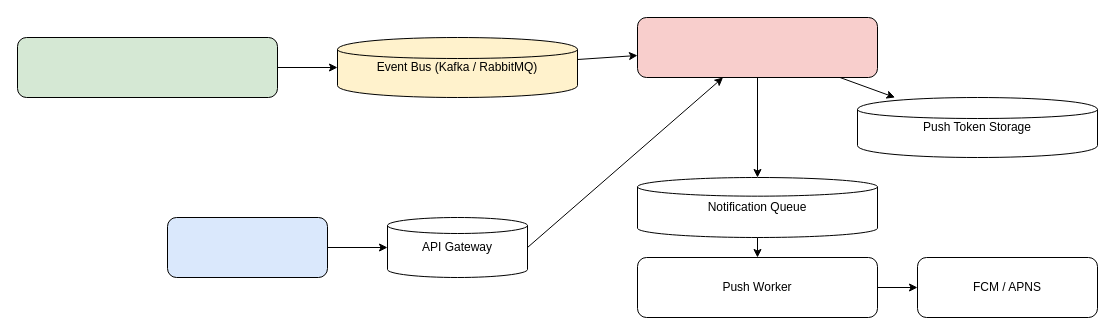
This 1115x335 diagram has some shape labels left out. Each missing label, with the centre of its shape:
"Mobile App" belongs at (247,247).
"Notification Service" belongs at (757,47).
"Order / Cart / Marketing Services" belongs at (147,67).
